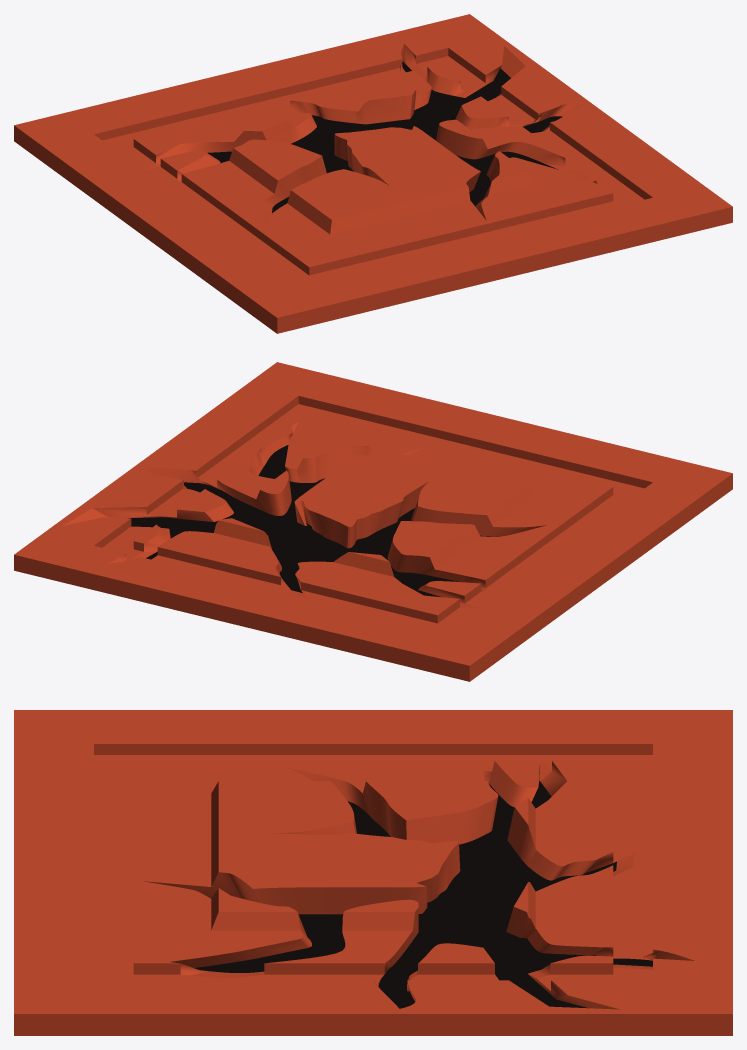
The model's file is Ceiling-Cracked1.FBX.
The picture shows the model from 3 angles, top to bottom: view 1: azimuth 30°, elevation 25°; view 2: azimuth 150°, elevation 25°; view 3: azimuth 270°, elevation 25°; orthographic projection. The views are drawn at different scales.
Parts seen in each view (by area): view 1: Ceiling-Cracked1; view 2: Ceiling-Cracked1; view 3: Ceiling-Cracked1.
Part boxes in pixels (bbox=[...]): Ceiling-Cracked1: bbox=[14, 14, 732, 333]; Ceiling-Cracked1: bbox=[14, 362, 732, 681]; Ceiling-Cracked1: bbox=[14, 710, 732, 1035].
Size of the model in its own units: 118 by 6.73 by 118.
